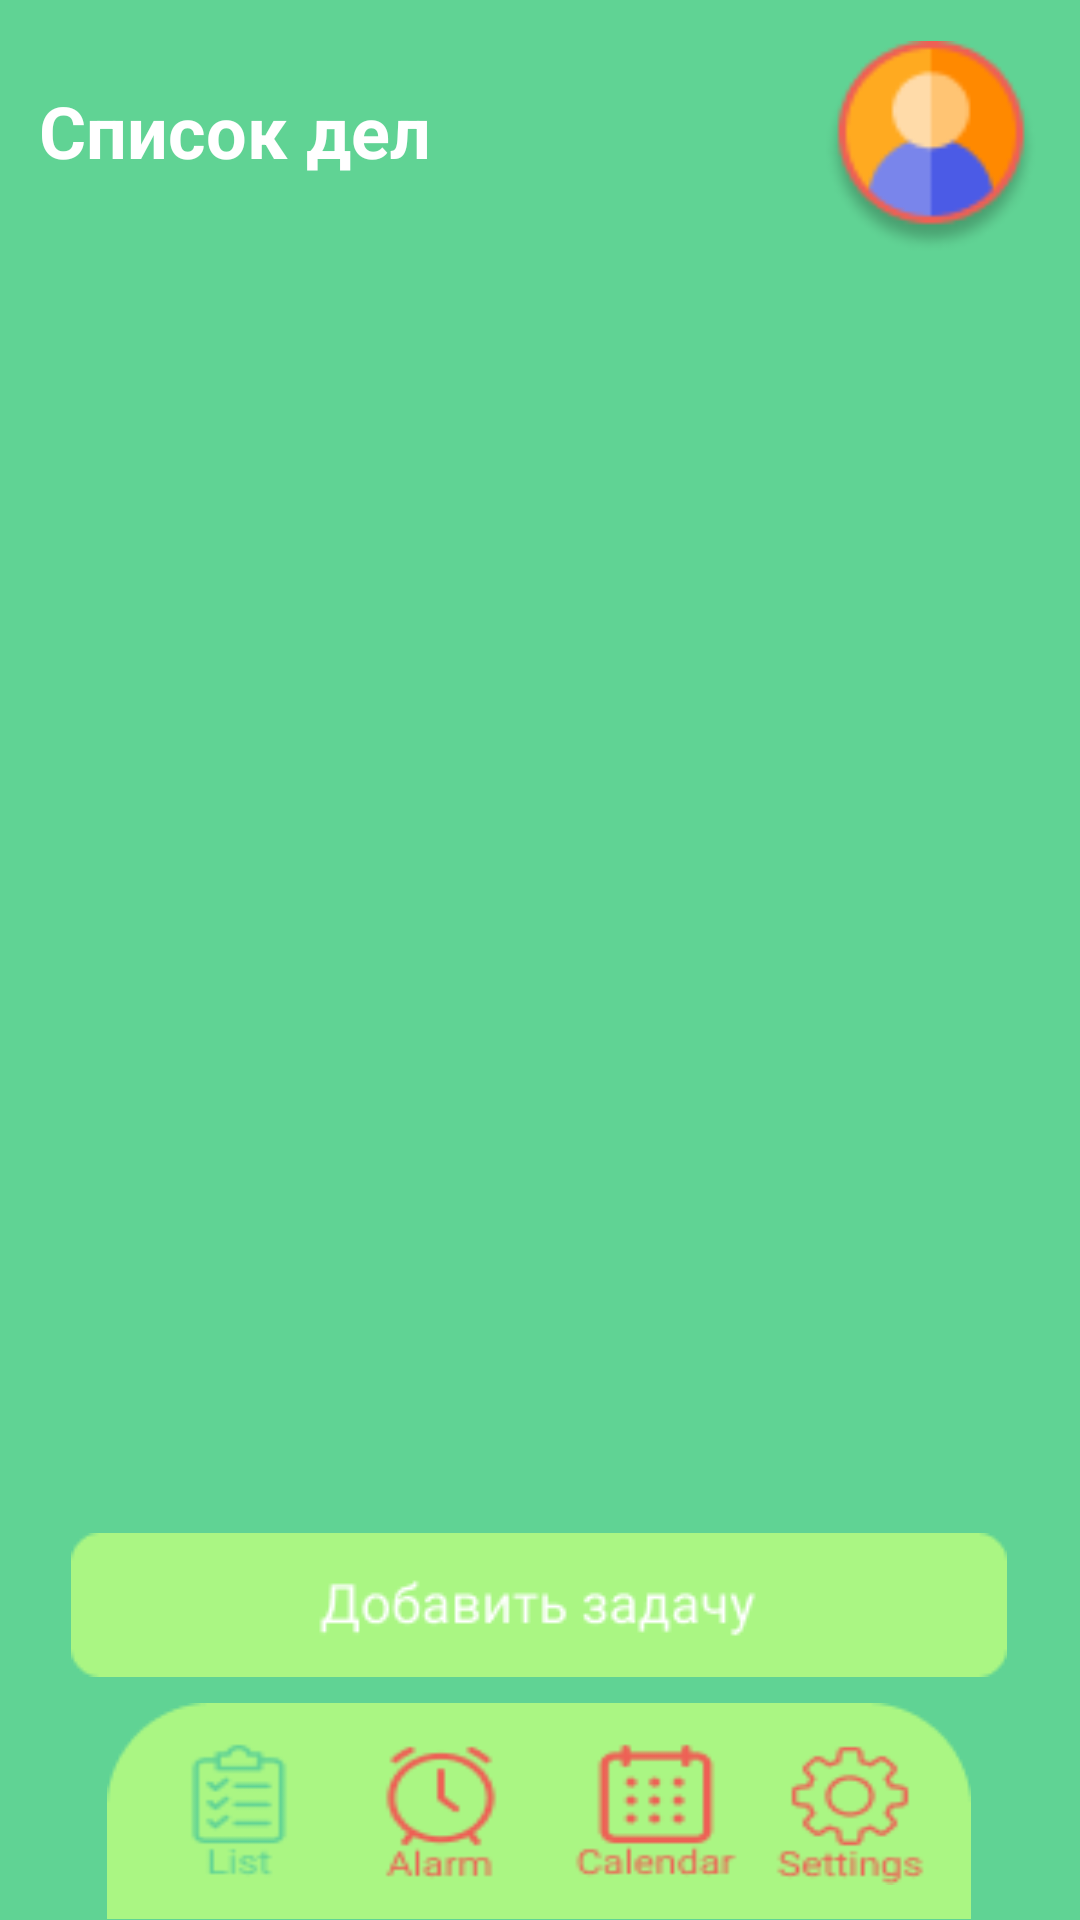

Icon click points for this 1080 x 1920 phone screenshot, format (x,y):
ava: (931,140)
